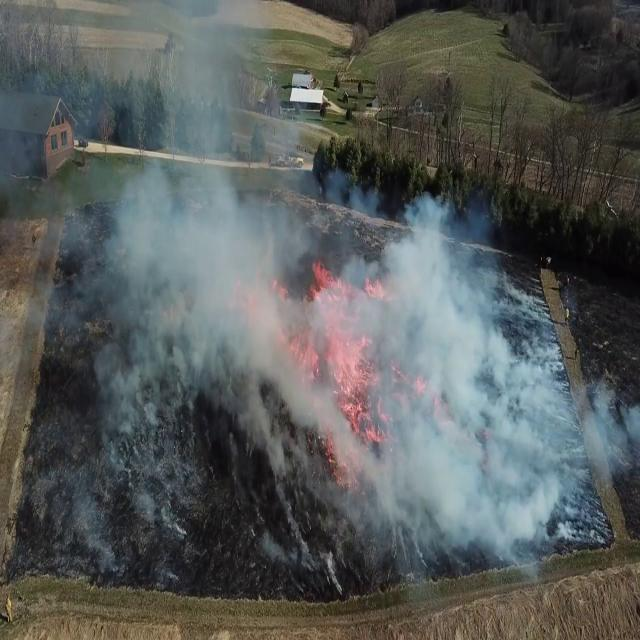Smoke: (12, 0, 331, 590), (274, 180, 638, 592)
